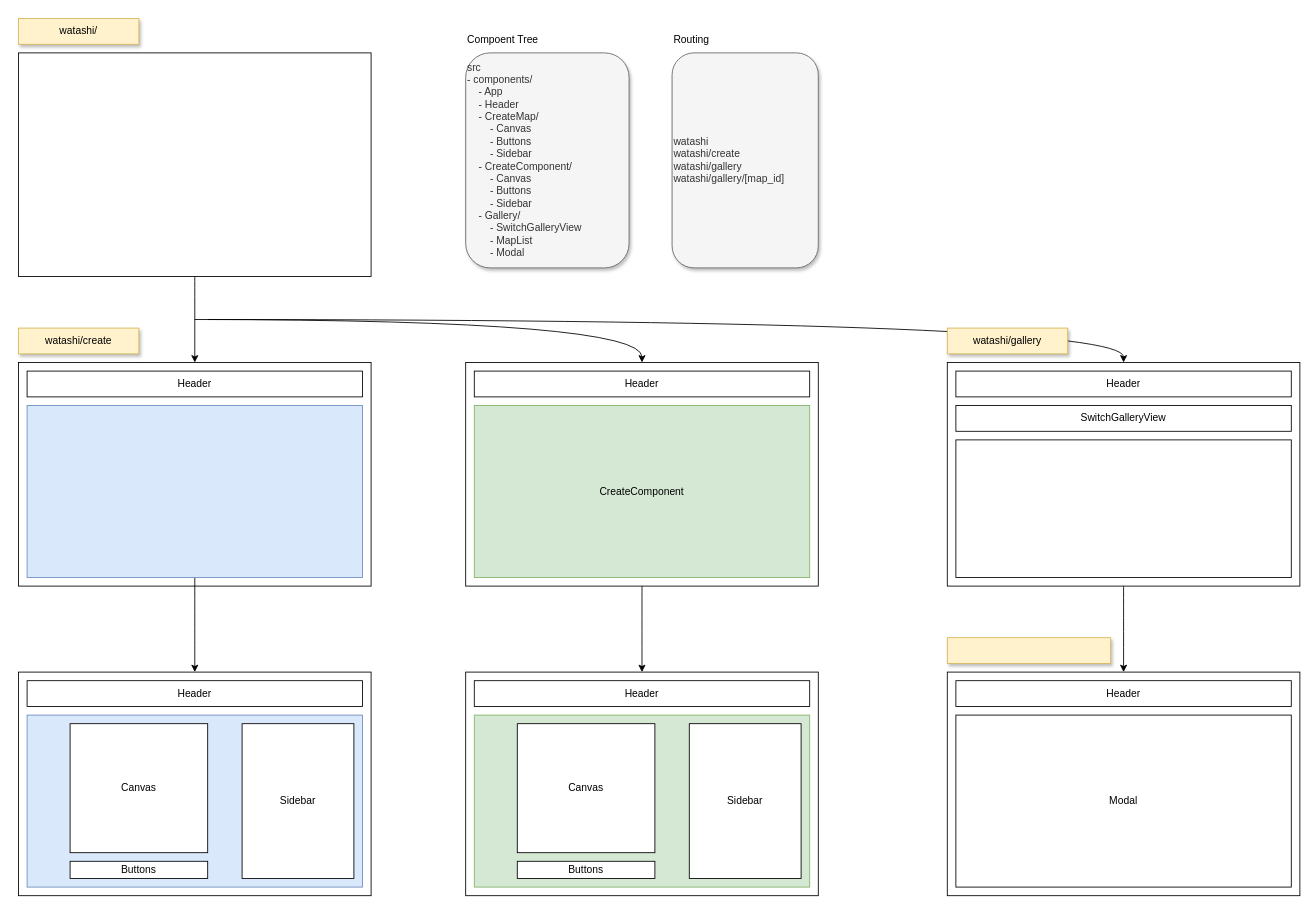
Some shapes in this 1315 by 911 pixel diagram are drawn without their labels. The centre of each missing label's shape, as x and y in pixels:
CreateMap: (194,491)
Landing page: (194,164)
MapList: (1123,508)
watashi/gallery/[map_id]: (1029,651)
